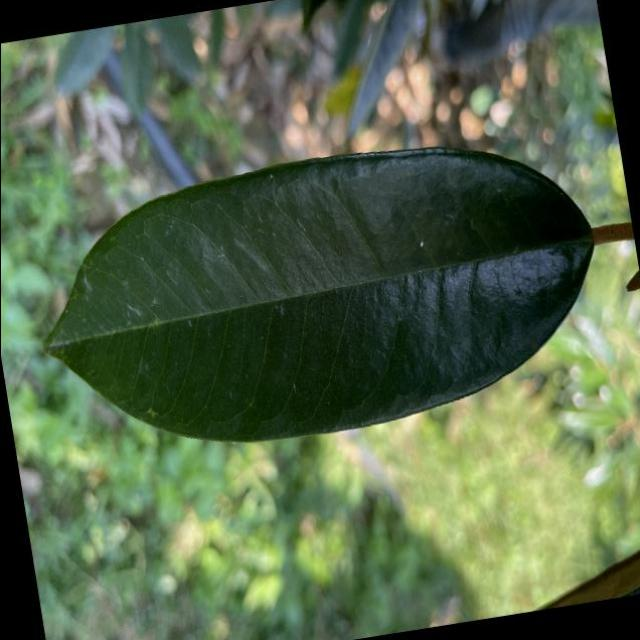No Disease: (6, 101, 632, 483)
